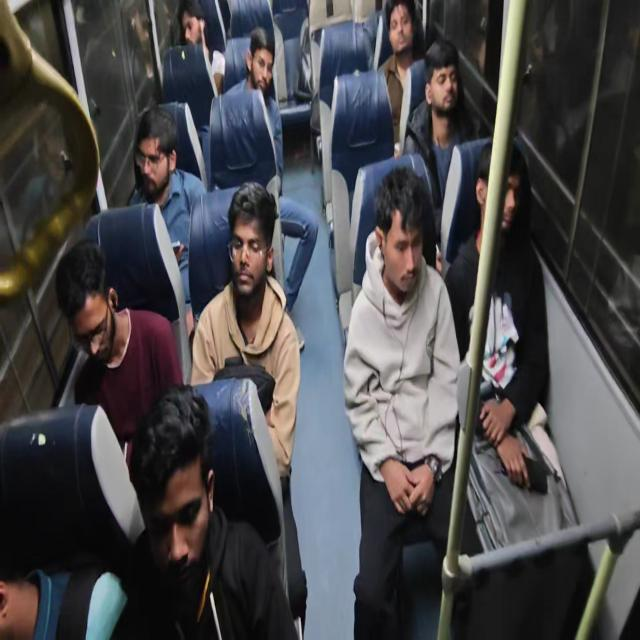person: (0, 382, 300, 639), (342, 165, 461, 638), (443, 139, 578, 552), (190, 180, 307, 636), (224, 26, 318, 350), (55, 237, 183, 465), (127, 105, 206, 339), (402, 37, 481, 248), (376, 0, 427, 158), (176, 0, 225, 96), (227, 26, 276, 98)
